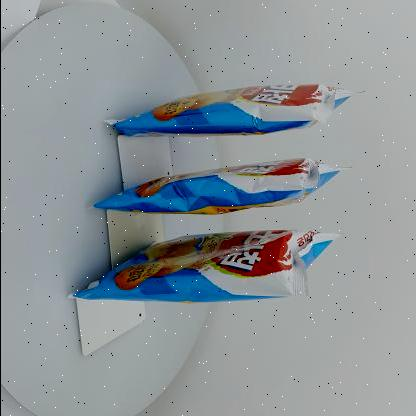Others: (60, 58, 368, 362)
